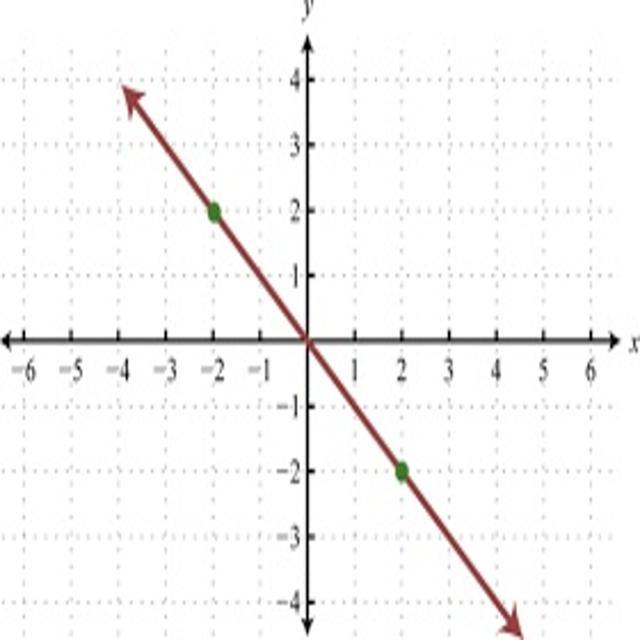axis: (1, 326, 630, 349), (300, 33, 315, 640)
line: (119, 83, 525, 639)
